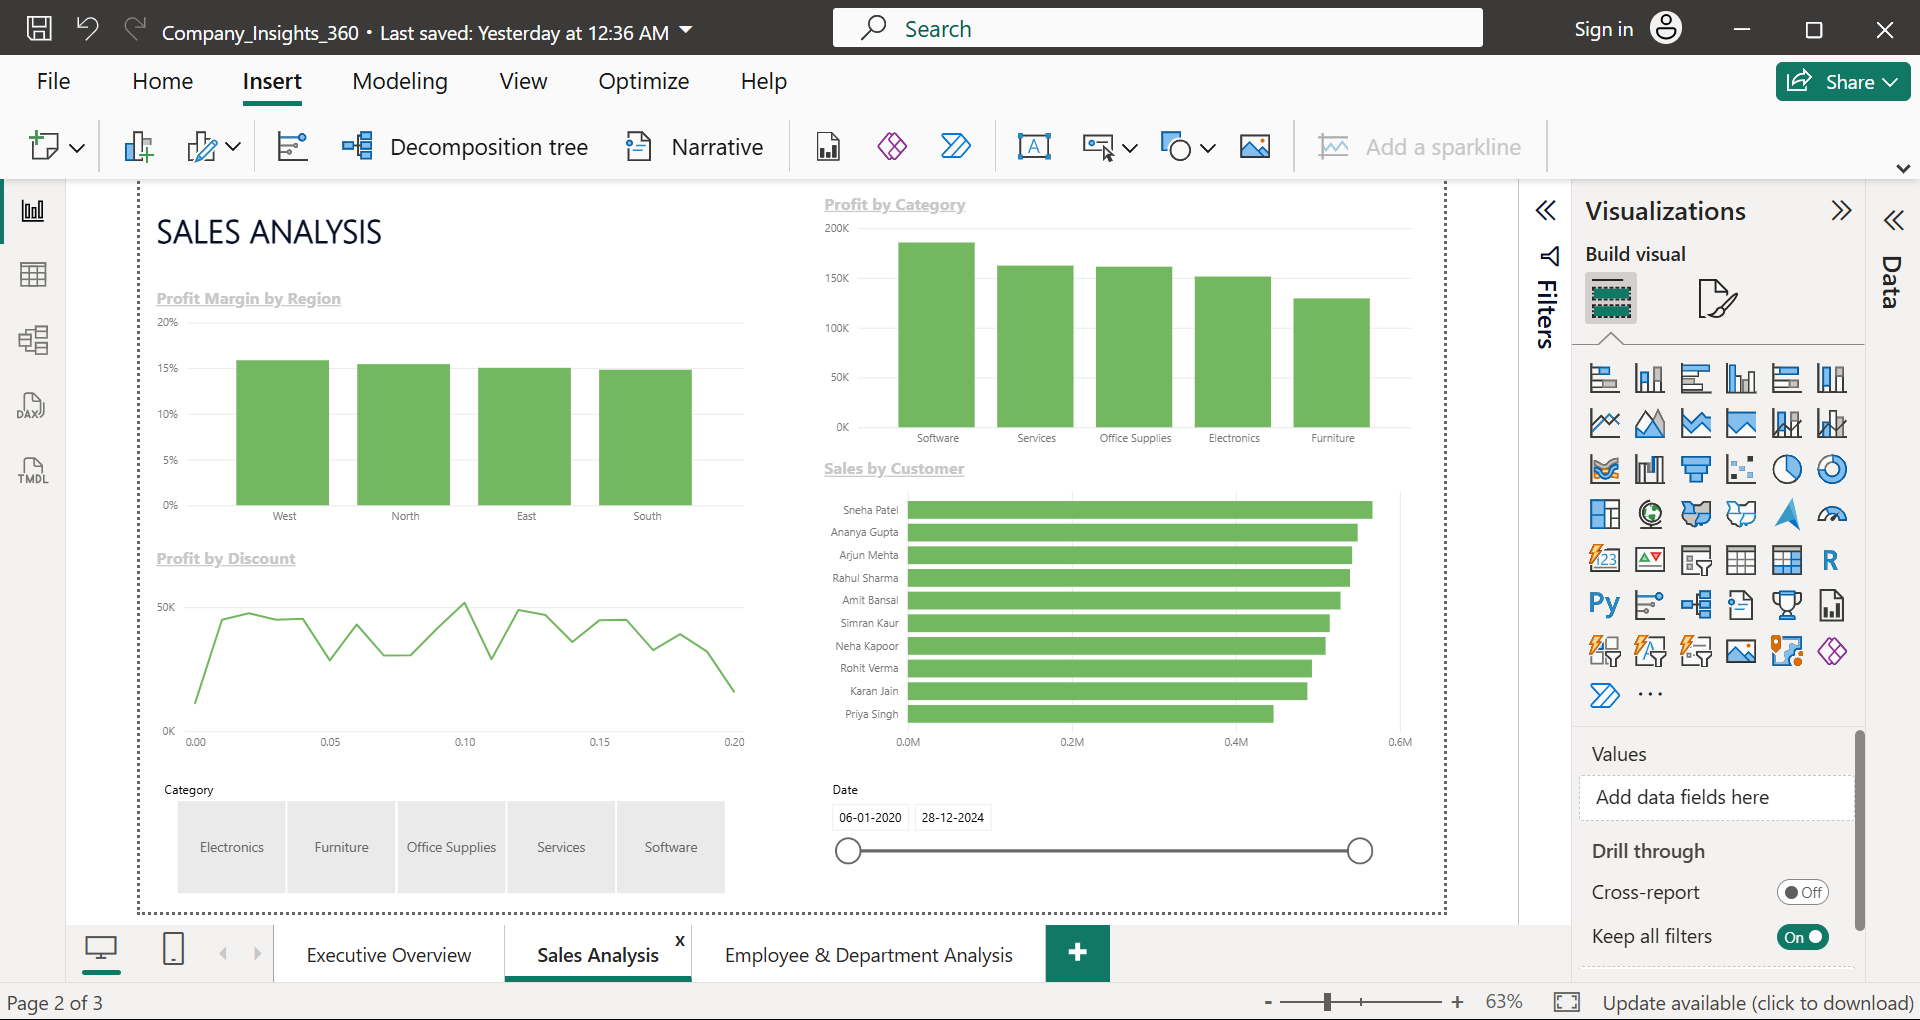

The dashboard page shown, as its layout file describes it:
{"tool":"powerbi","page":{"name":"Sales Analysis ","canvas":[1280,720],"ordinal":1},"visuals":[{"type":"clusteredColumnChart","fields":{"Category":["sales.Region"],"Y":["sales.Profit Margin"]},"box":[10,0,280,280],"z":0},{"type":"lineChart","title":"Profit by Discount","fields":{"Category":["sales.Discount"],"Y":["Sum(sales.Profit)"]},"box":[10.8,279.9,279.9,279.9],"z":1},{"type":"barChart","title":"Sales by Customer","fields":{"Category":["sales.CustomerName"],"Y":["Sum(sales.Sales)"]},"box":[290.7,287.1,333.8,290.7],"z":2},{"type":"clusteredColumnChart","title":"Profit by Category","fields":{"Category":["sales.Category"],"Y":["Sum(sales.Profit)"]},"box":[290.7,10.8,279.9,279.9],"z":3},{"type":"slicer","fields":{"Values":["sales.Category"]},"box":[624.5,34.1,556.3,116.6],"z":4},{"type":"slicer","fields":{"Values":["sales.Date"]},"box":[640.6,168.7,382.2,122],"z":5}]}

Visuals, with their boxes on the page's 1280x720 design canvas (x1, y1, x2, y2). These are canvas units, not pixel positions in the 1920x1020 screenshot, which may show the page scaled, cropped or inside an application window:
clusteredColumnChart - sales.Region x sales.Profit Margin: [left=10, top=0, right=290, bottom=280]
"Profit by Discount" lineChart: [left=11, top=280, right=291, bottom=560]
"Sales by Customer" barChart: [left=291, top=287, right=624, bottom=578]
"Profit by Category" clusteredColumnChart: [left=291, top=11, right=571, bottom=291]
slicer - sales.Category: [left=624, top=34, right=1181, bottom=151]
slicer - sales.Date: [left=641, top=169, right=1023, bottom=291]
